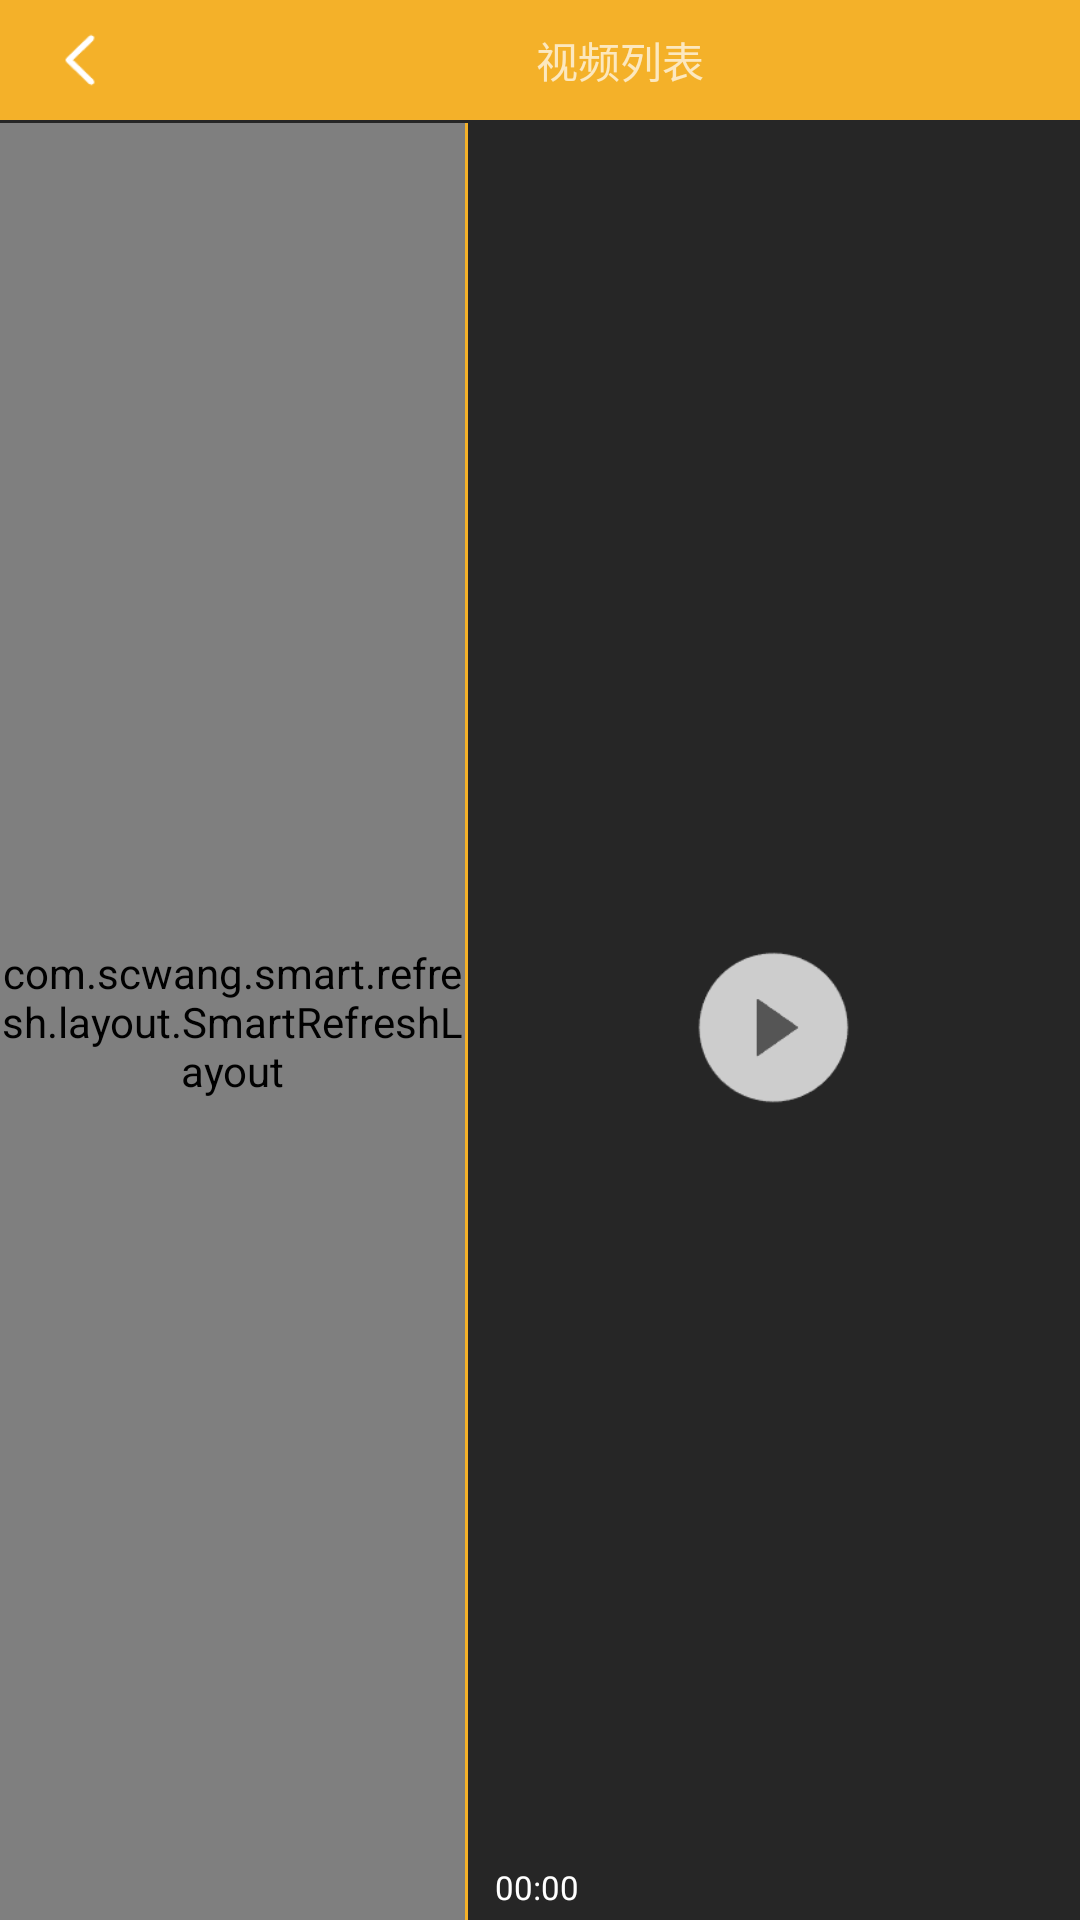

Icons on this 1080*1920 Android screen, each with its box as (x1, y1, x2, y2):
back: (65, 34, 95, 86)
